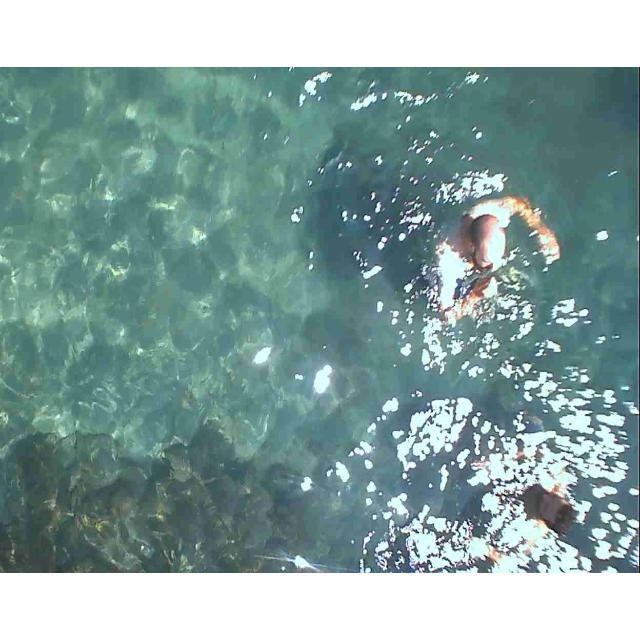human: (439, 164, 556, 379), (521, 452, 577, 560)
